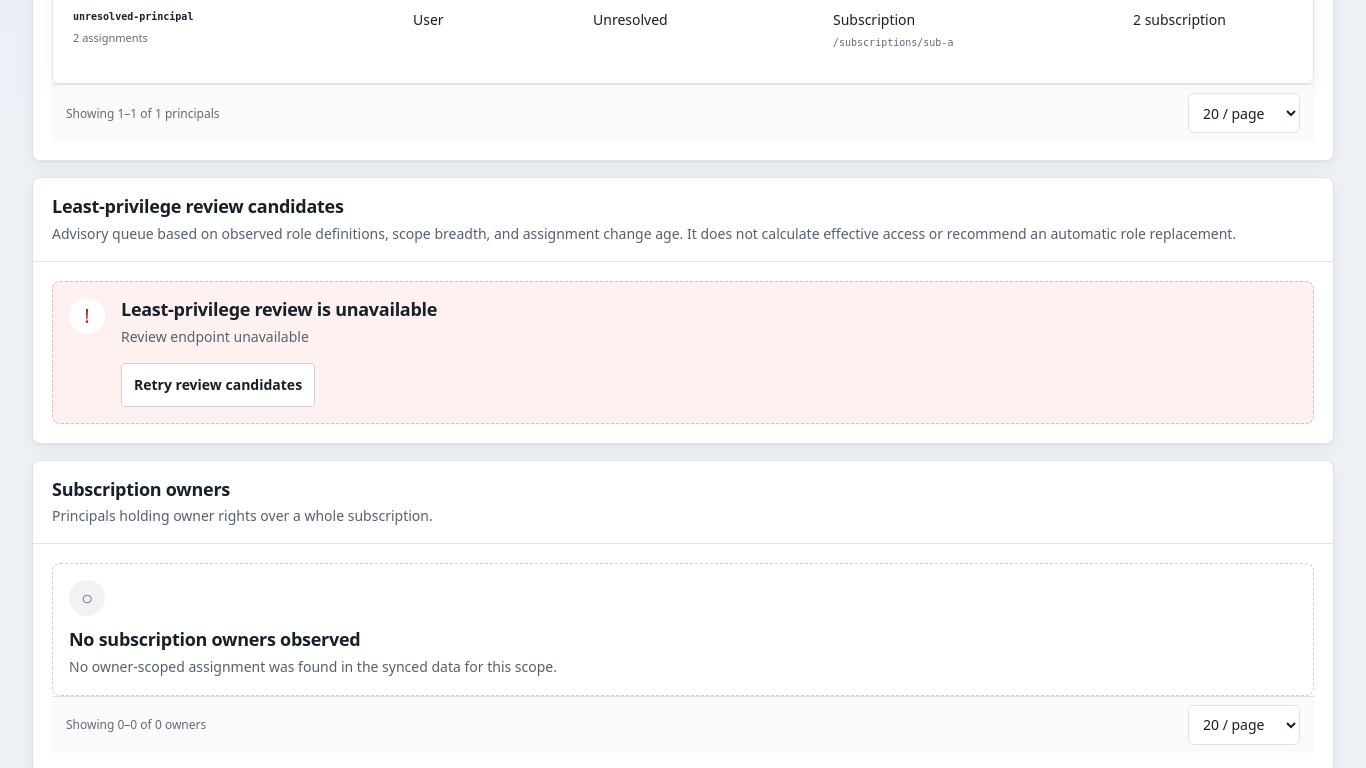
Scenario: Identity evidence boundaries › surfaces and retries an unavailable least-privilege read independently
(page scrolled)
Check: the text "Review endpoint unavailable" is shown, box [121,327,309,346]
Click the button "Retry review candidates". click: coordinates (218, 384)
box: [121,362,315,406]
(page scrolled)
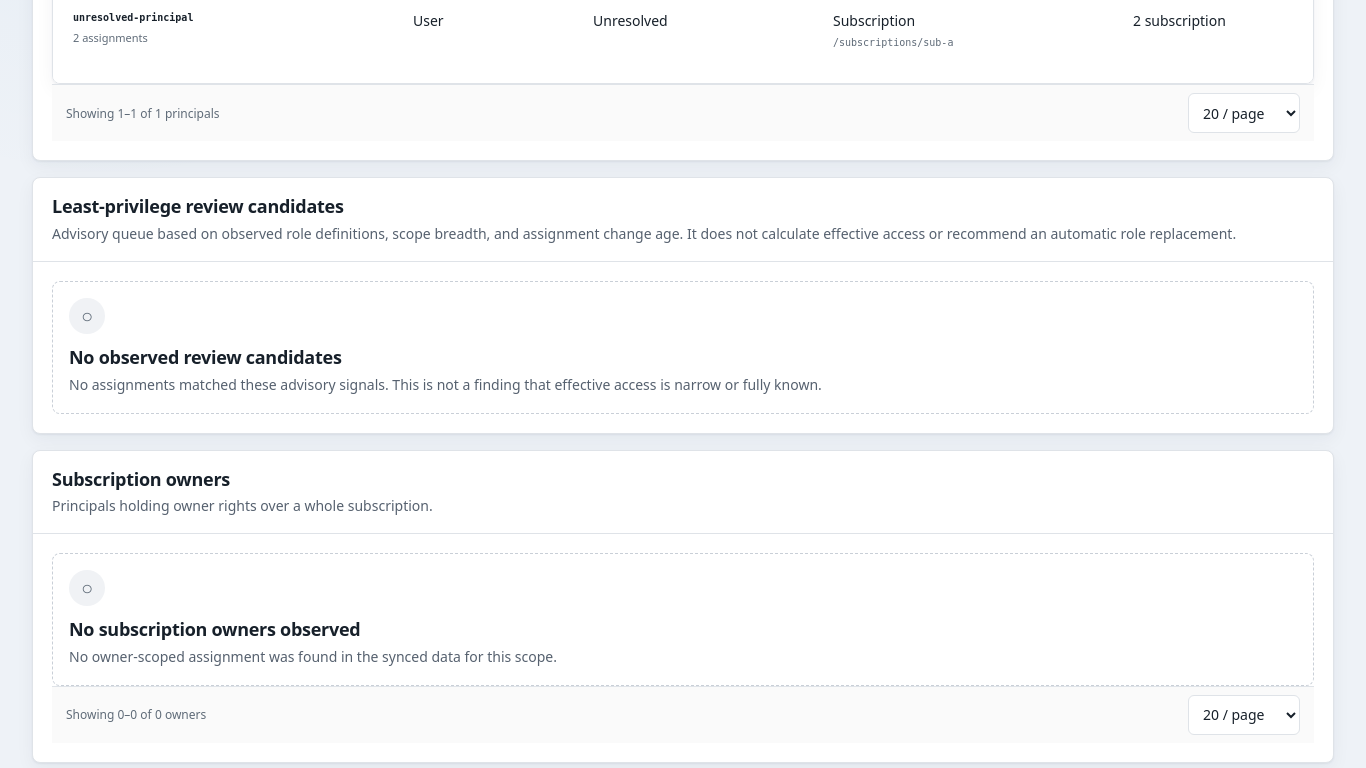
Check: the heading "No observed review candidates" is shown, box [69,346,342,369]
